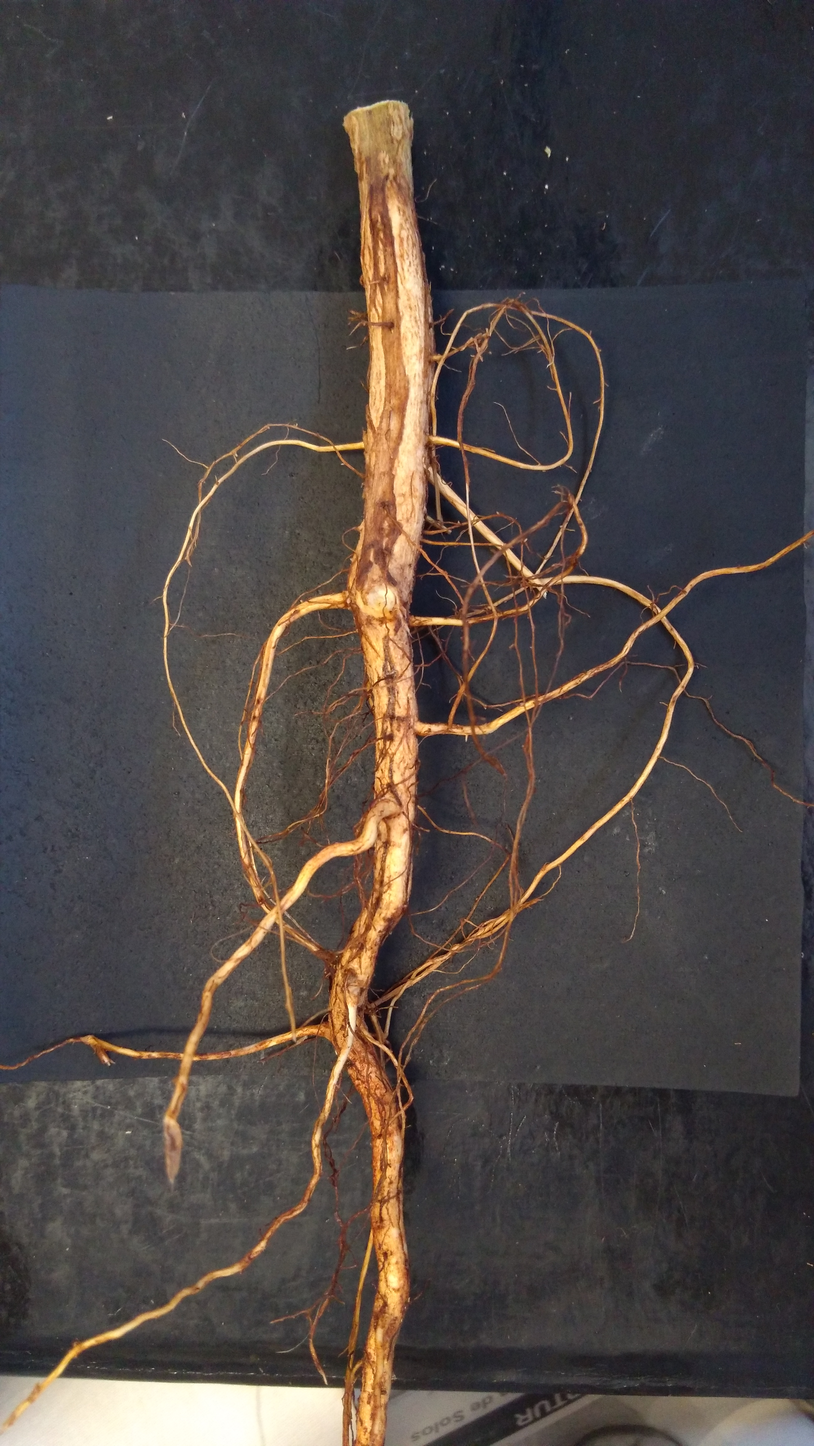nodule: (323, 952, 343, 979), (467, 332, 484, 349), (360, 273, 366, 289)
